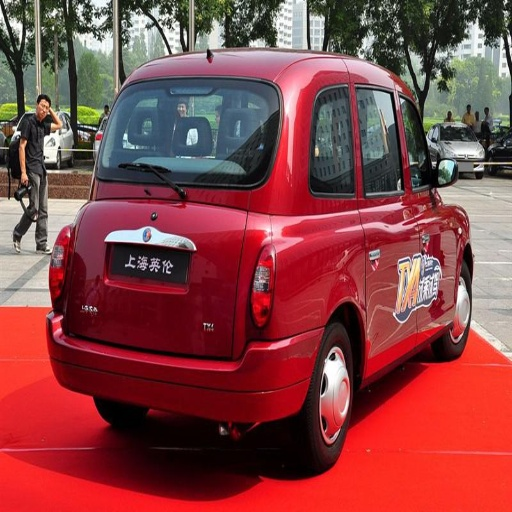back_bumper: (49, 312, 324, 443)
back_right_door: (313, 84, 350, 179)
front_glass: (118, 79, 273, 110)
tailgate: (175, 329, 244, 363)
trunk: (65, 178, 455, 360)
